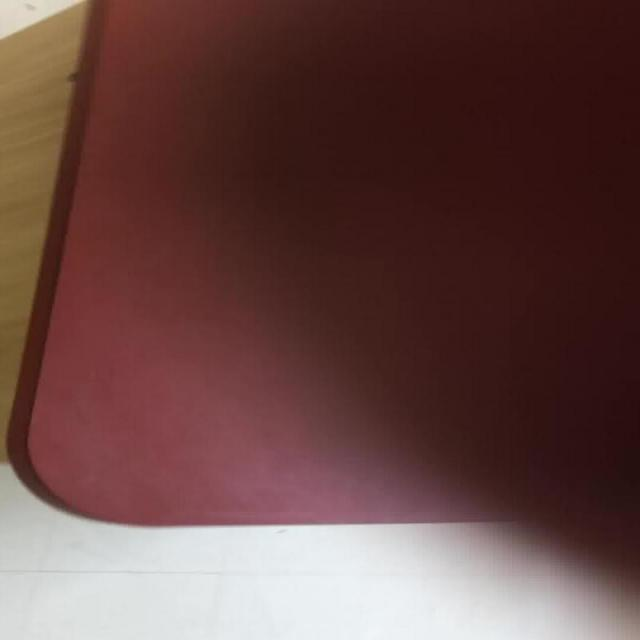Tonic: (4, 0, 637, 530)
